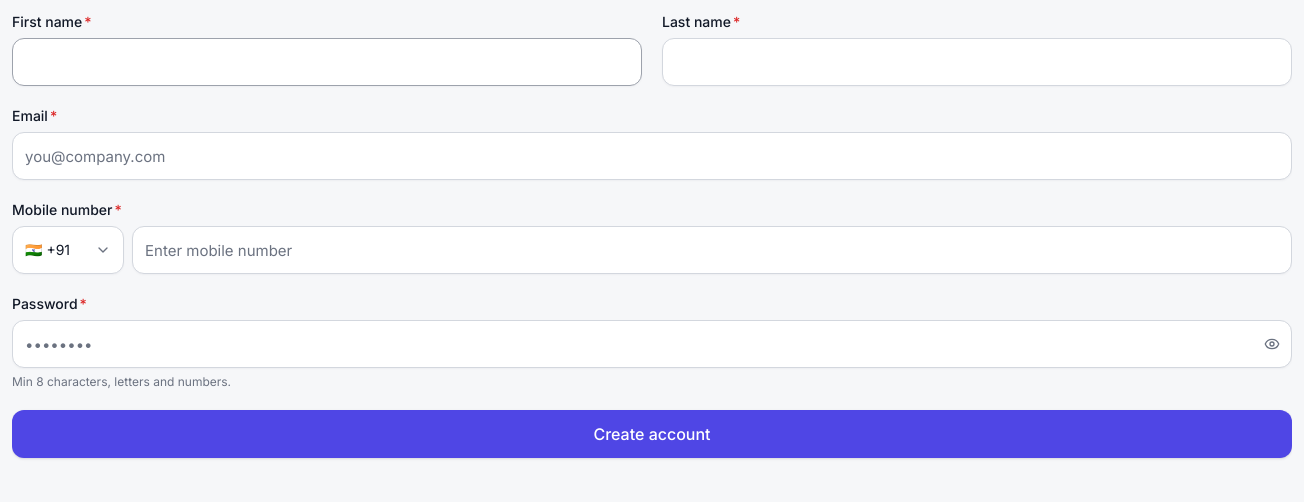
SignupForm › puts a taken mobile number error on the mobile field
Type "Sam" into the field labelled "First name*" at (327,62), box left=12, top=38, right=642, bottom=86
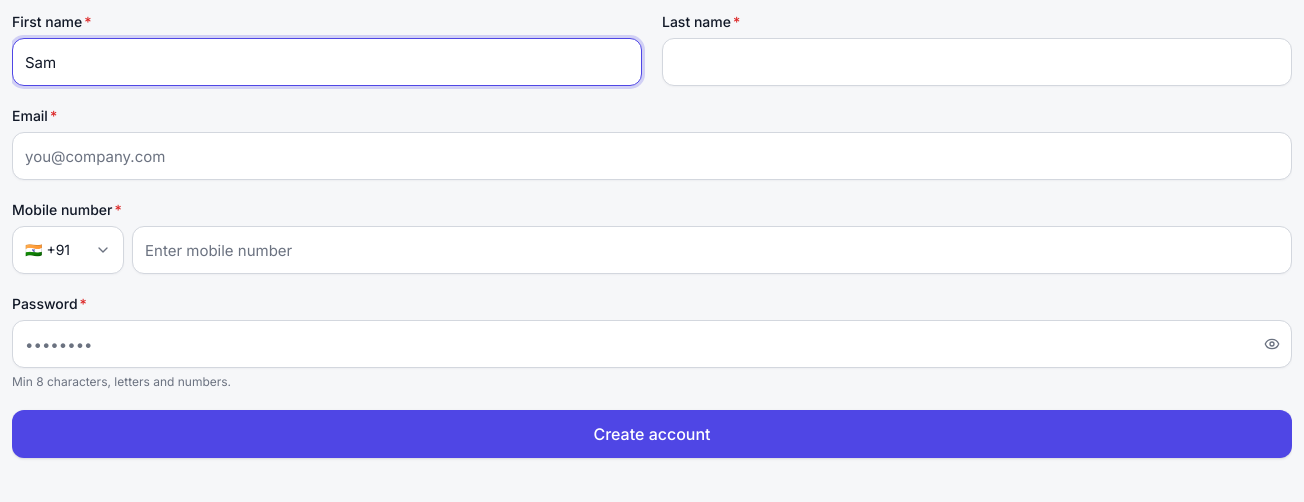
Type "Rivera" into the field labelled "Last name*" at (977,62), box left=662, top=38, right=1292, bottom=86
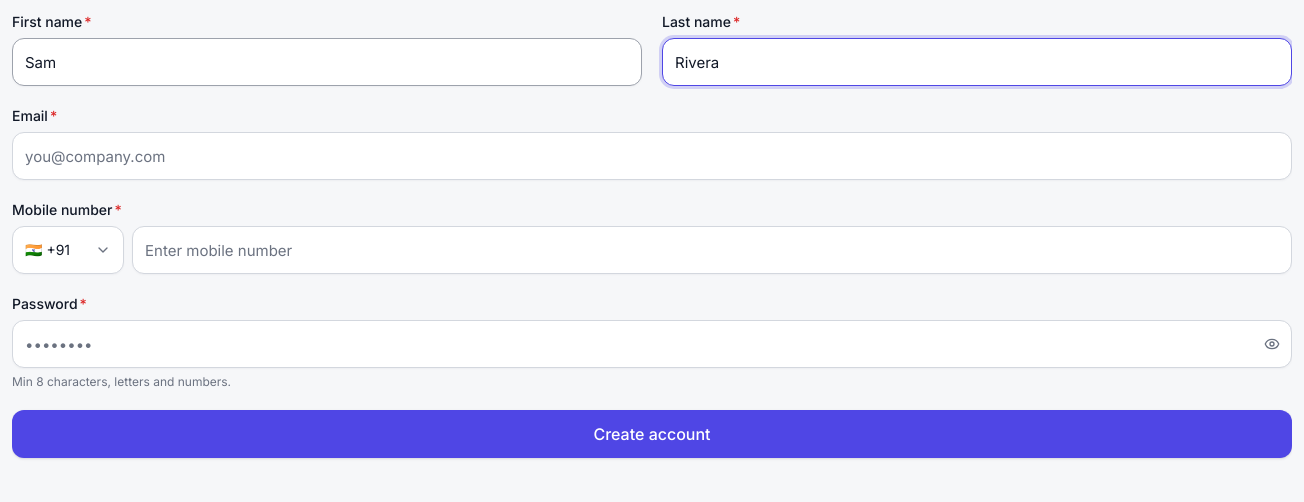
Type "sam@company.com" into the field labelled "Email*" at (652,156), box left=12, top=132, right=1292, bottom=180
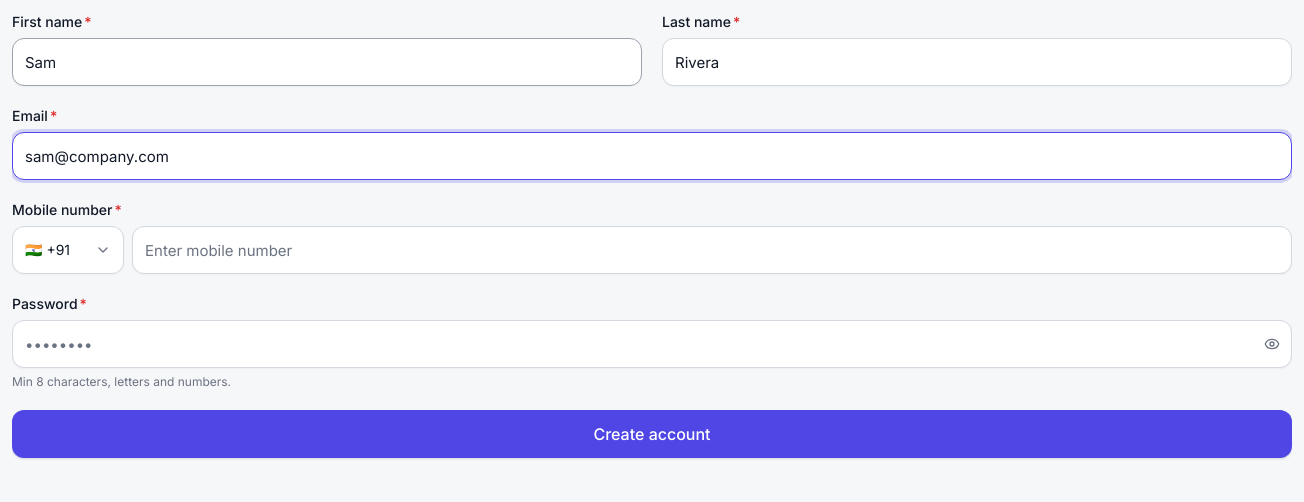
Type "98765 43210" into the field labelled "Mobile number*" at (712,250), box left=132, top=226, right=1292, bottom=274
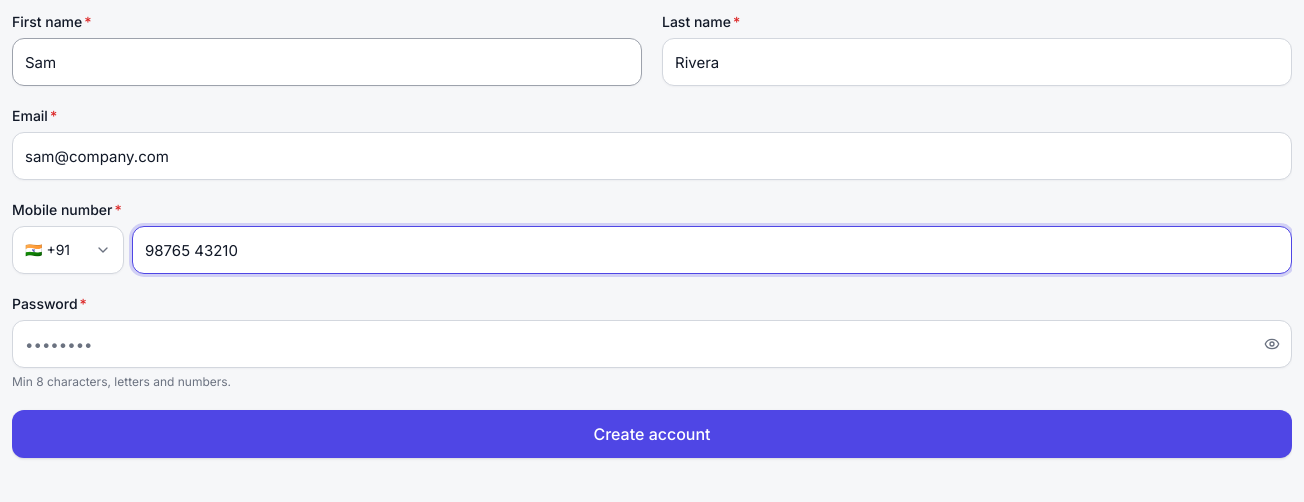
Type "Signup1234" into the password field labelled "Password*" at (652,344), box left=12, top=320, right=1292, bottom=368
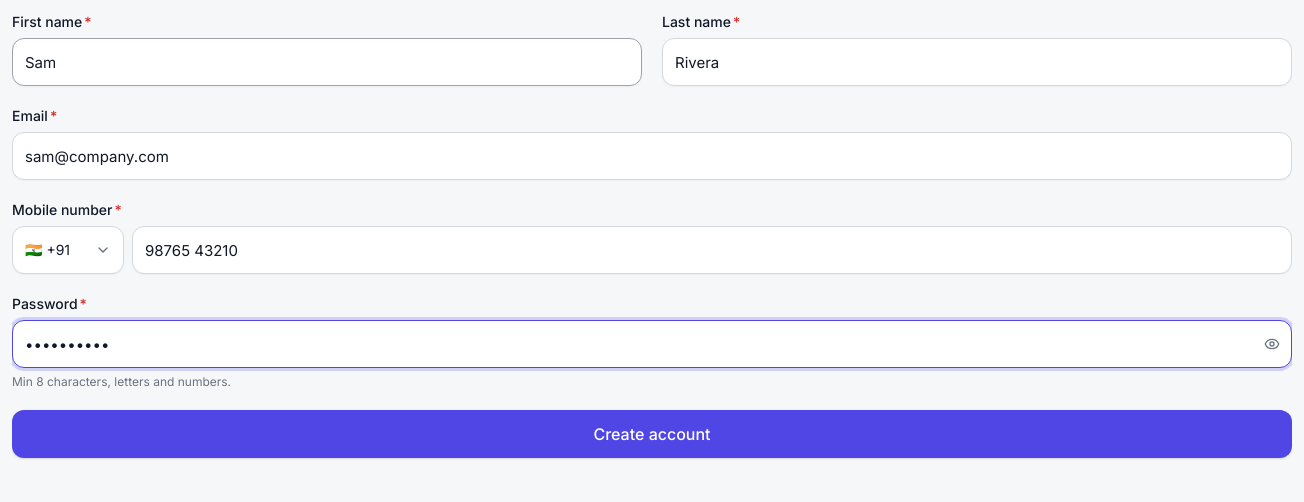
Click the button "Create account" at (652,434), box left=12, top=410, right=1292, bottom=458
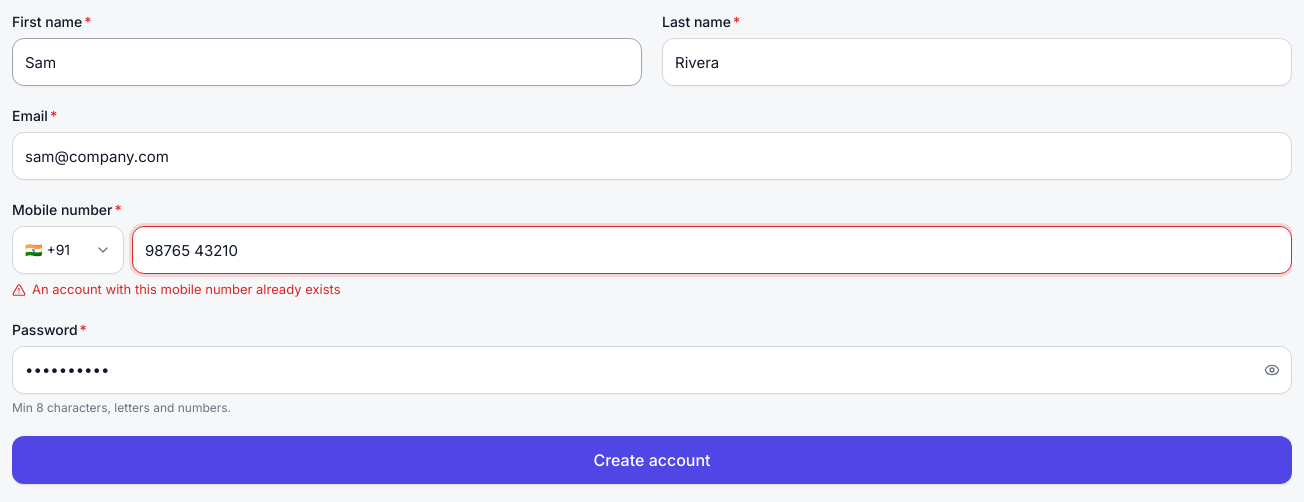
Expected: the text "An account with this mobile number already exists" is shown, left=12, top=281, right=340, bottom=297
